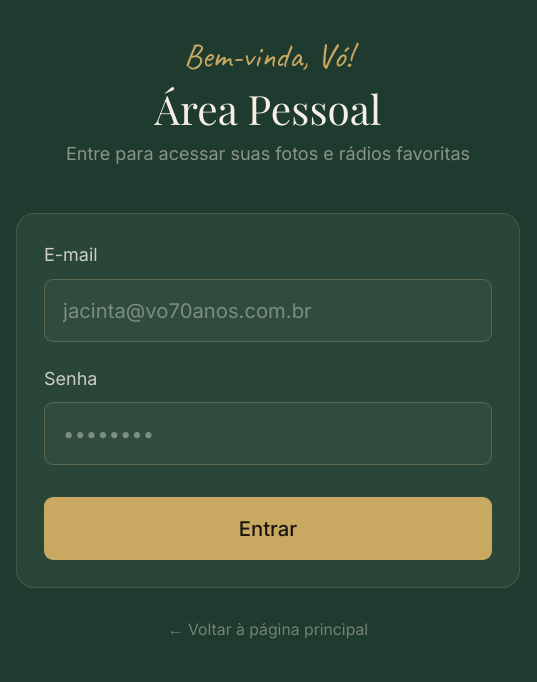
Test: LoginPage › shows error message on failed login
Step 1. Type "ana@test.com" into the field labelled "E-mail" → (268, 311), box [44,279,492,342]
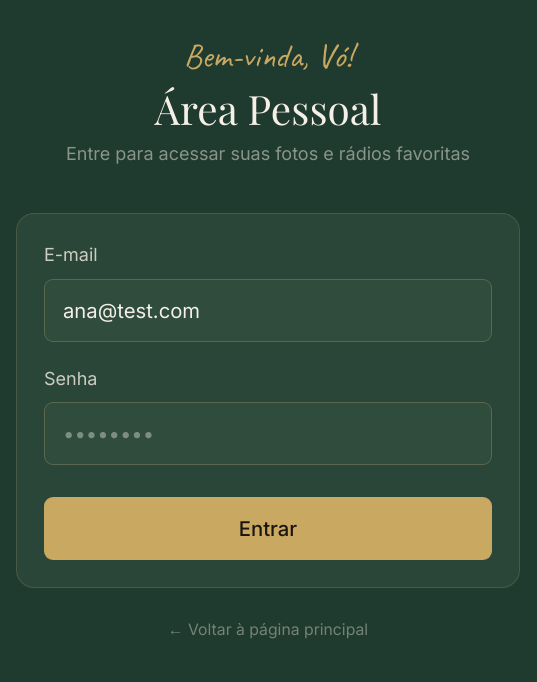
Step 2. Type "wrong" into the password field labelled "Senha" → (268, 434), box [44,402,492,465]
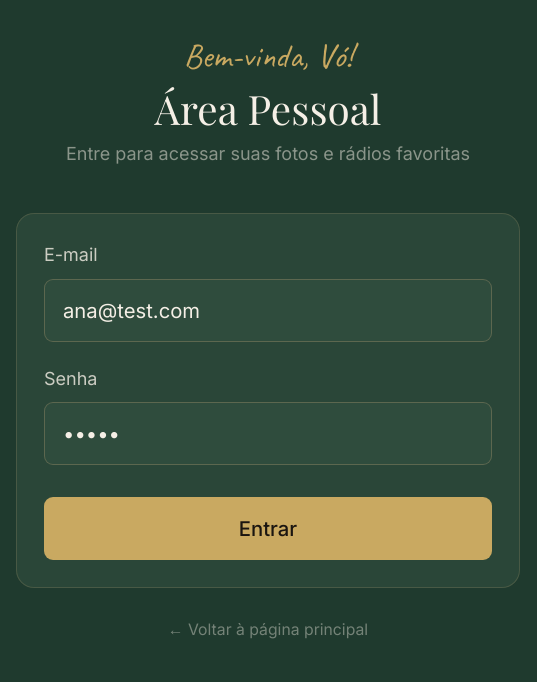
Step 3. Click the button "Entrar" → (268, 528), box [44,497,492,560]
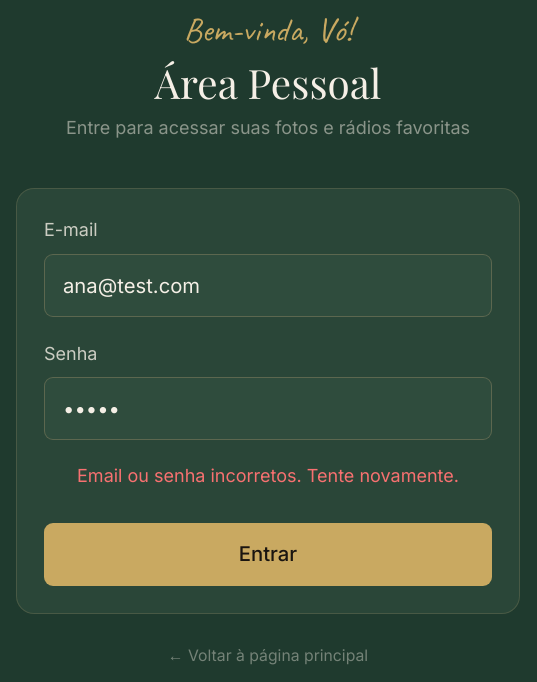
Expected: the text "Email ou senha incorretos. Tente novamente." is shown, [44,462,492,491]
